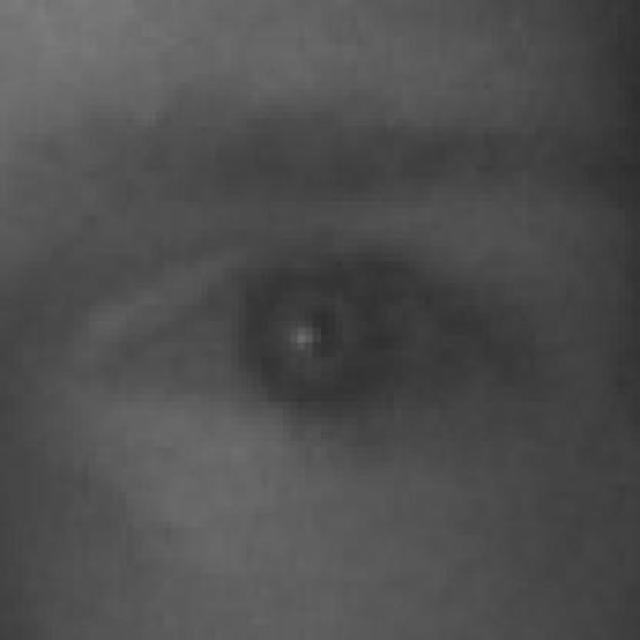awake: (86, 230, 509, 424)
